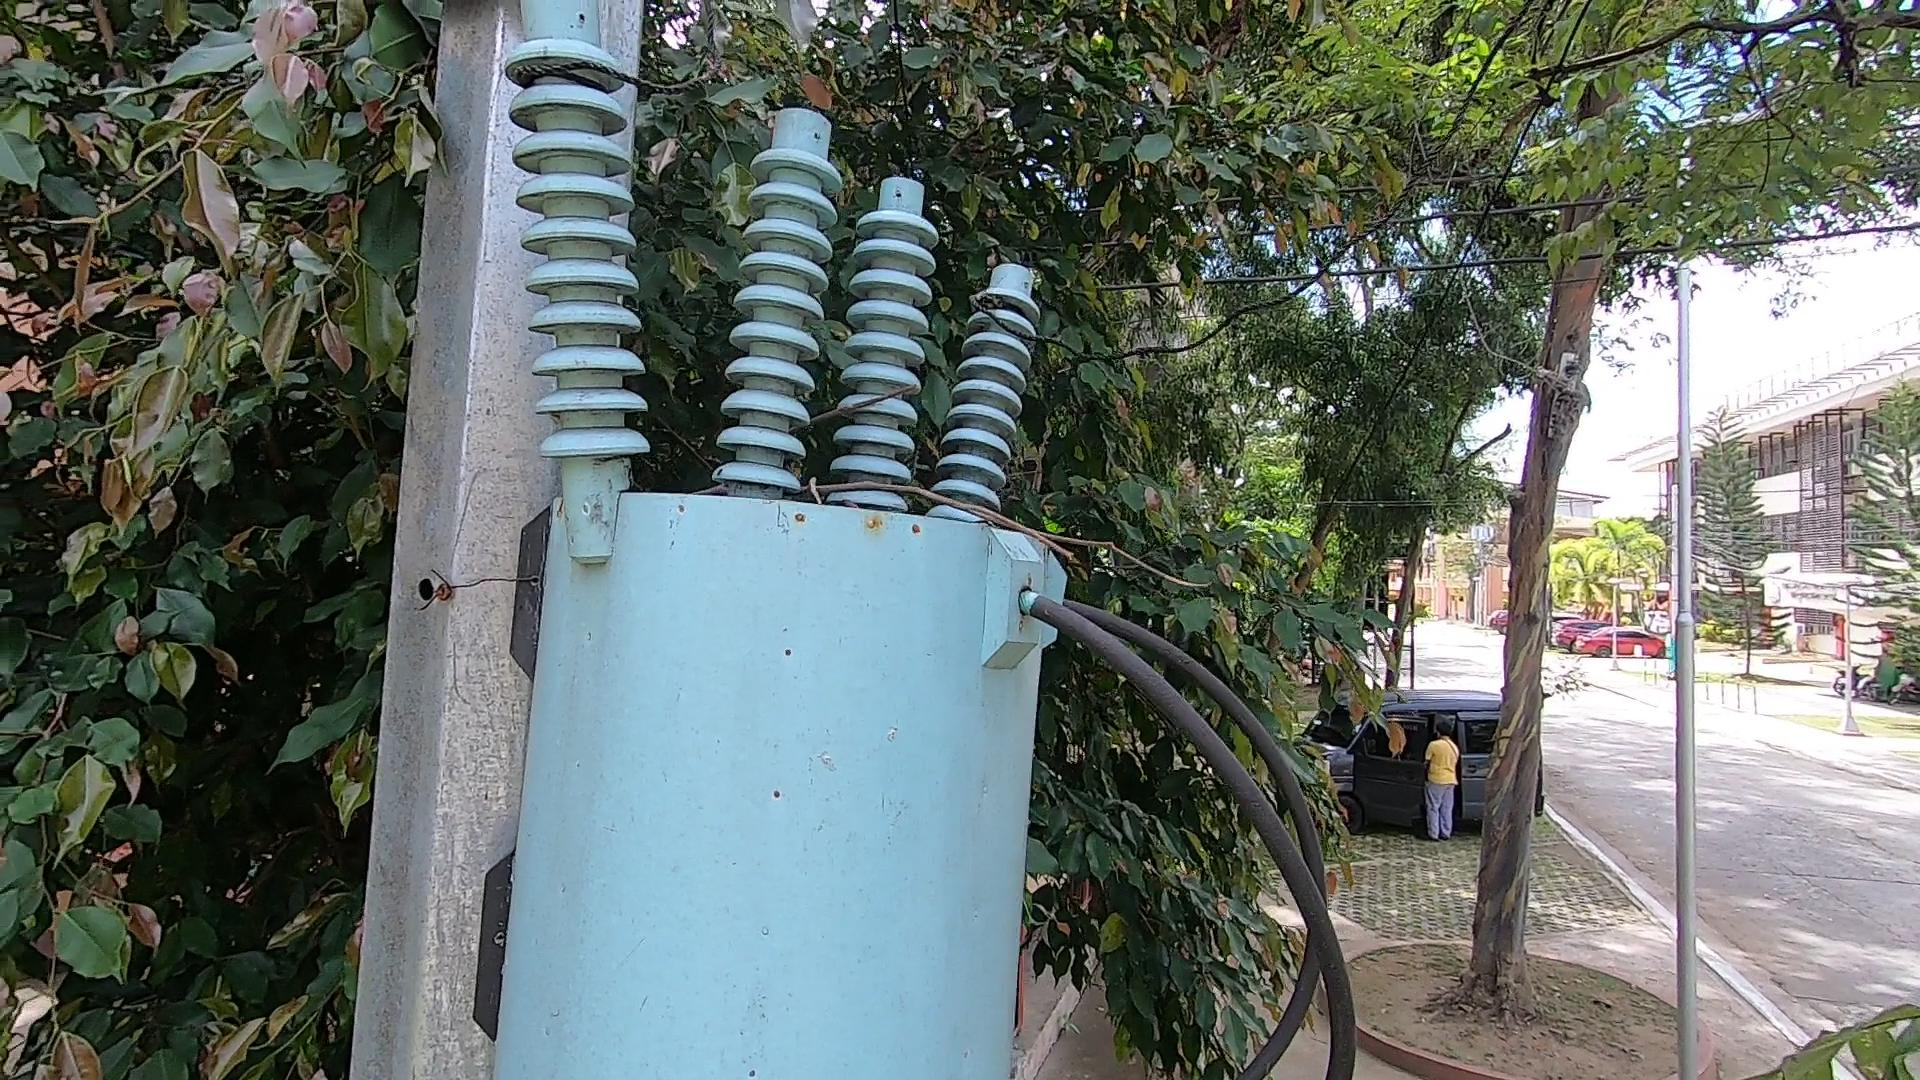tree branch: (740, 371, 1211, 618)
